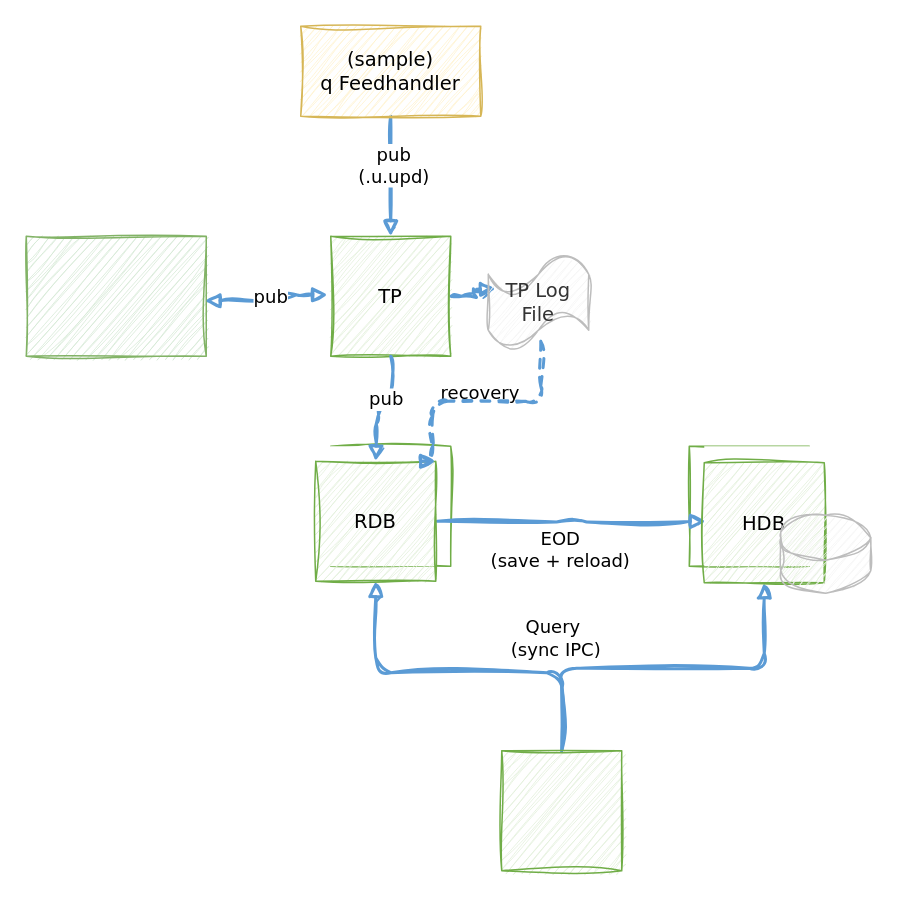
The diagram is 897 pixels wide and 897 high, and some of its shapes have lost their labels. Here are the shapes that lost their labels. From the top down, the box of each, then its label:
(25, 235, 206, 356): (sample) q RTE
(500, 749, 622, 871): GW (q-IPC / REST)
